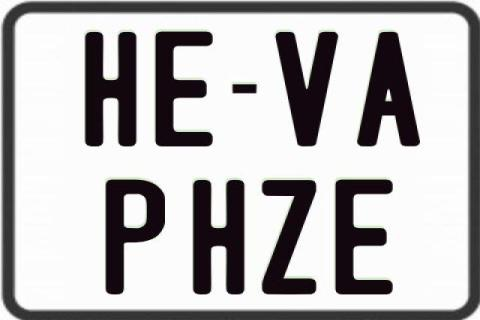A: (357, 30, 426, 146)
E: (154, 31, 213, 149), (332, 178, 392, 294)
H: (84, 31, 138, 151), (192, 177, 247, 293)
P: (103, 177, 168, 292)
V: (274, 30, 340, 146)
Z: (261, 180, 319, 298)
